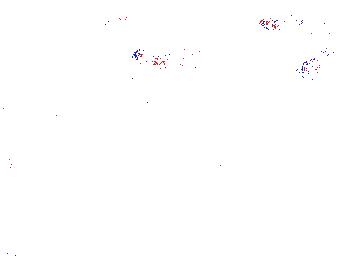X-ray fish: (133, 67, 161, 105), (294, 57, 333, 81)
glassfish: (80, 4, 207, 74)
red belly glassfish: (131, 44, 211, 67), (259, 13, 293, 31)
redtail glassfish: (294, 17, 346, 47)
